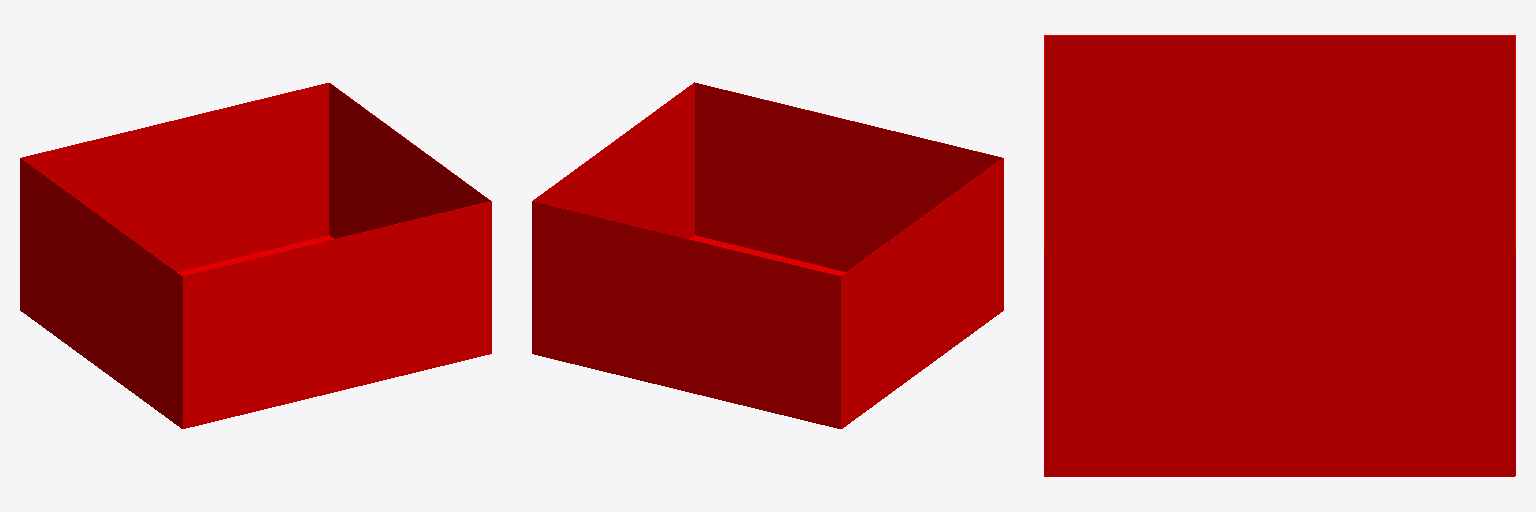
URDF robot description (square.urdf):
<?xml version="1.0" ?>
<robot name="square.urdf">
  <link name="baseLink">
    <contact>
      <lateral_friction value="1.0"/>
      <inertia_scaling value="3.0"/>
    </contact>
    <inertial>
      <origin rpy="0 0 0" xyz="0 0 0"/>
       <mass value=".1"/>
       <inertia ixx="1" ixy="0" ixz="0" iyy="1" iyz="0" izz="1"/>
    </inertial>
    <visual>
      <origin rpy="0 0 0" xyz="0 0 0"/>
      <geometry>
        <mesh filename="14.stl" scale="1 1 1" />
      </geometry>
      <material name="red">
        <color rgba="1 0 0 1"/>
      </material>
    </visual>
    <collision>
      <origin rpy="0 0 0" xyz="0 0 0"/>
      <geometry>
        <mesh filename="14_convex.obj" scale="1 1 1" />
      </geometry>
    </collision>
  </link>
</robot>

--- Facts derived from the render (not from the file) ---
Views: 3 orthographic renders of the robot side by side, from view 1: azimuth 30°, elevation 25°; view 2: azimuth 150°, elevation 25°; view 3: azimuth 270°, elevation 25°.
Model square.urdf with 1 links and 0 joints (none), rooted at baseLink, posed every joint at zero.
Visible links, largest first — view 1: baseLink; view 2: baseLink; view 3: baseLink.
Link boxes in pixels (<box>): baseLink: <box>20,83,491,428</box>; baseLink: <box>532,82,1003,428</box>; baseLink: <box>1044,35,1515,476</box>.
Size in the robot's own frame: 0.5776 by 0.5249 by 0.2732 metres.
Meshes: 1 distinct files referenced, 1 mesh visuals loaded (1 binary STL).